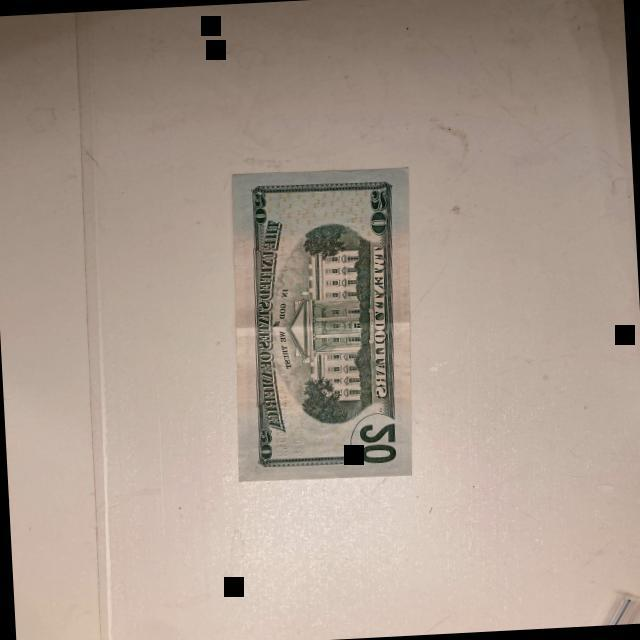twenty: (222, 166, 428, 484)
